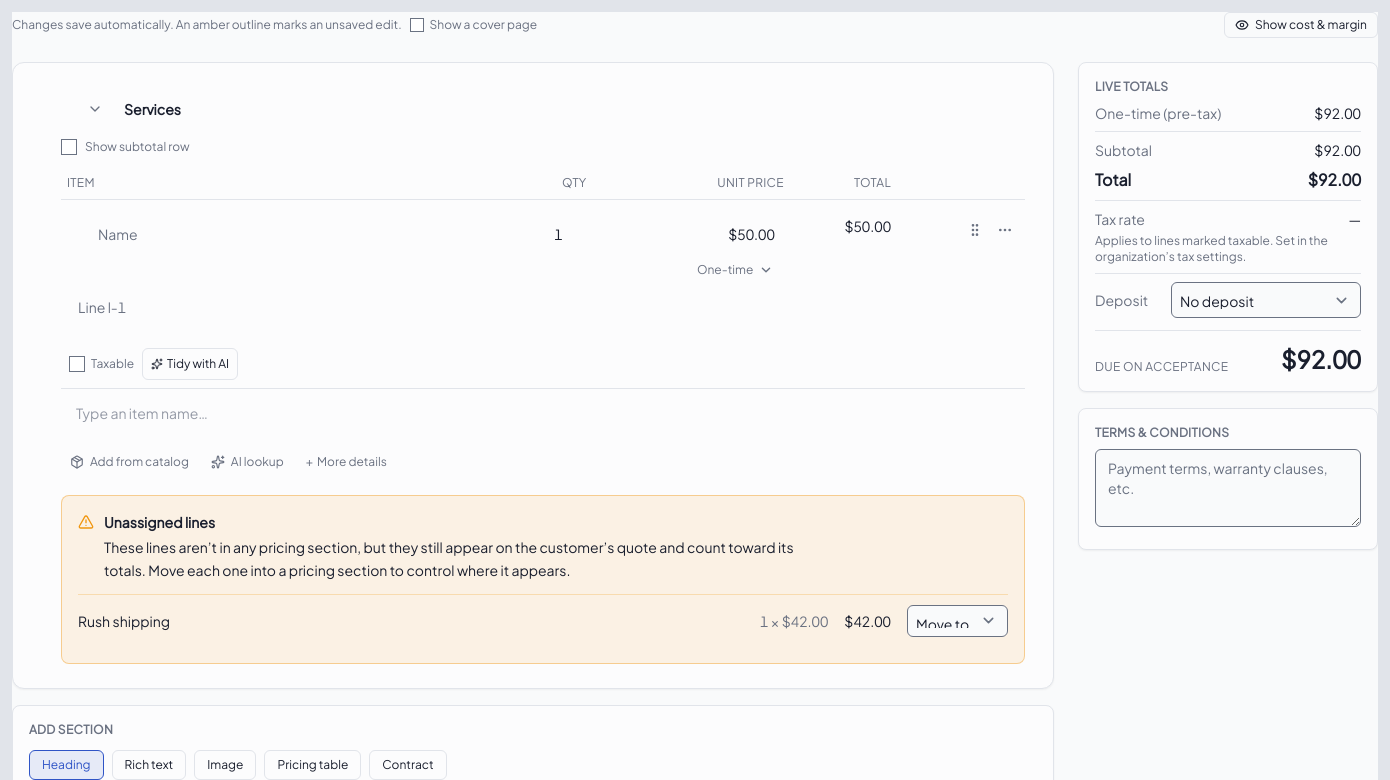
QuoteEditor — unassigned (orphan) lines bucket › PATCHes the move endpoint with the chosen block and adopts the line
Select "Services" in the dropdown with test id "quote-unassigned-move-orphan-1" at (958,620), box [907, 604, 1008, 636]
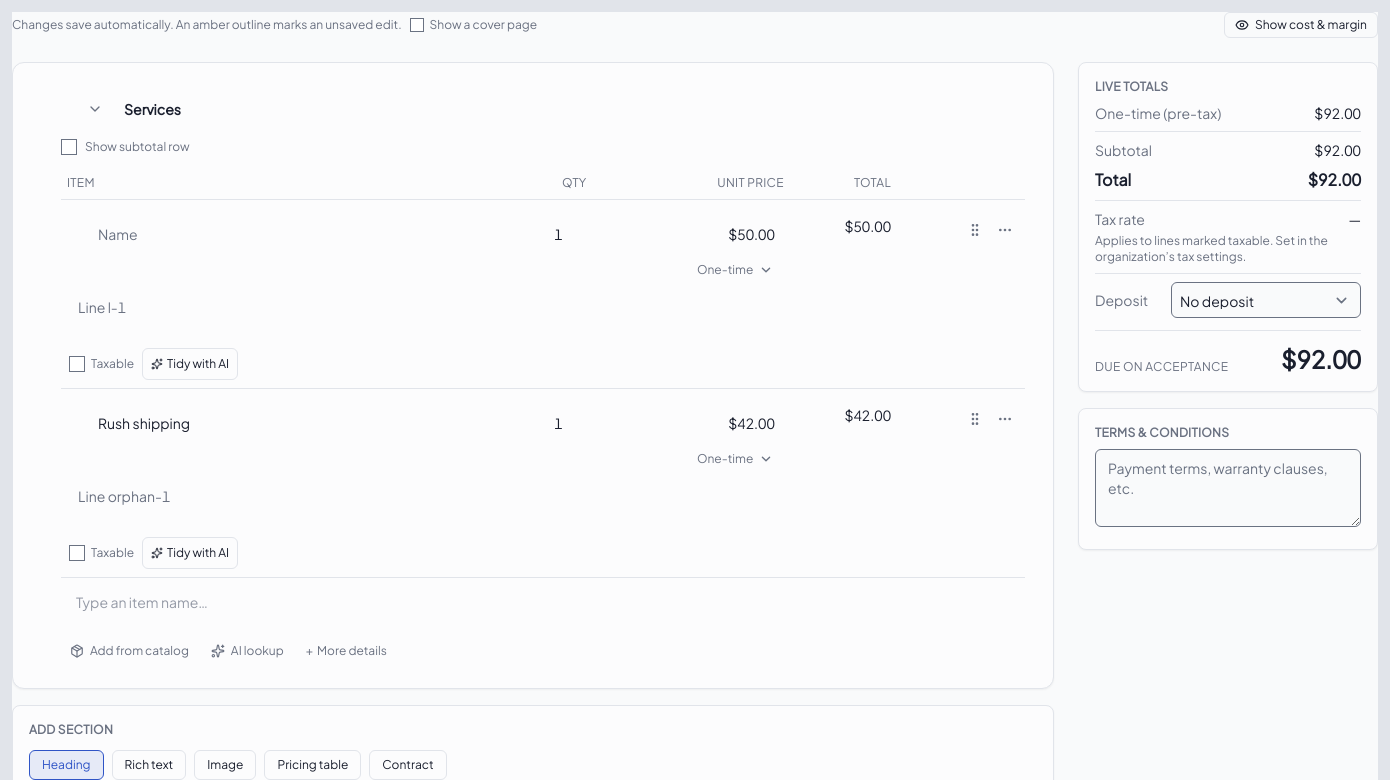
Now the number field with test id "quote-line-qty-orphan-1" is shown, box [531, 405, 587, 441]
Now the element with test id "quote-unassigned-lines" is gone
